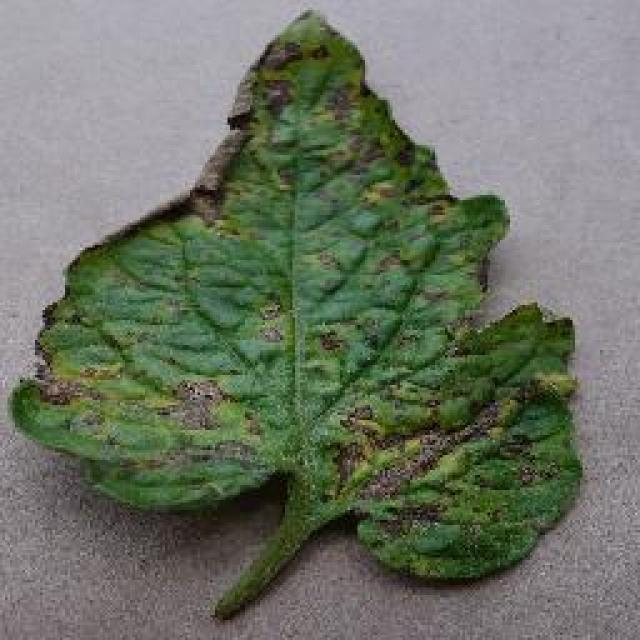Tomato Early blight leaf: (12, 6, 585, 588)
